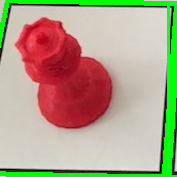Red Queen: (12, 14, 117, 131)
